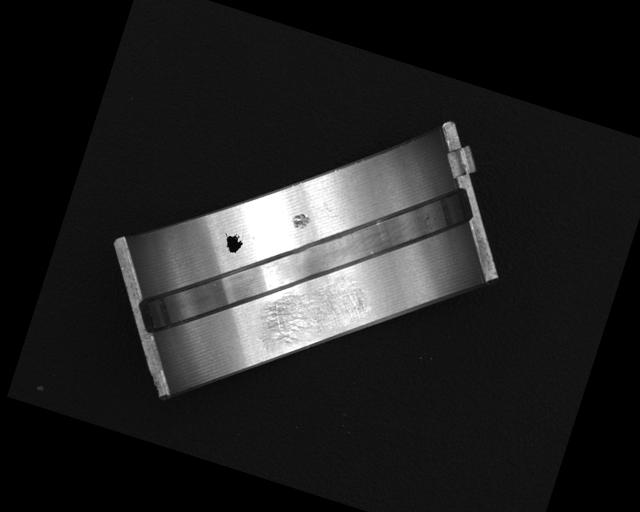blot: (219, 228, 246, 255)
bruise: (288, 208, 312, 232)
gap: (139, 109, 477, 414)
scratch: (256, 254, 373, 362)
